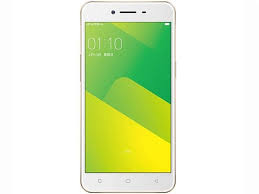oppo: (77, 1, 177, 194)
